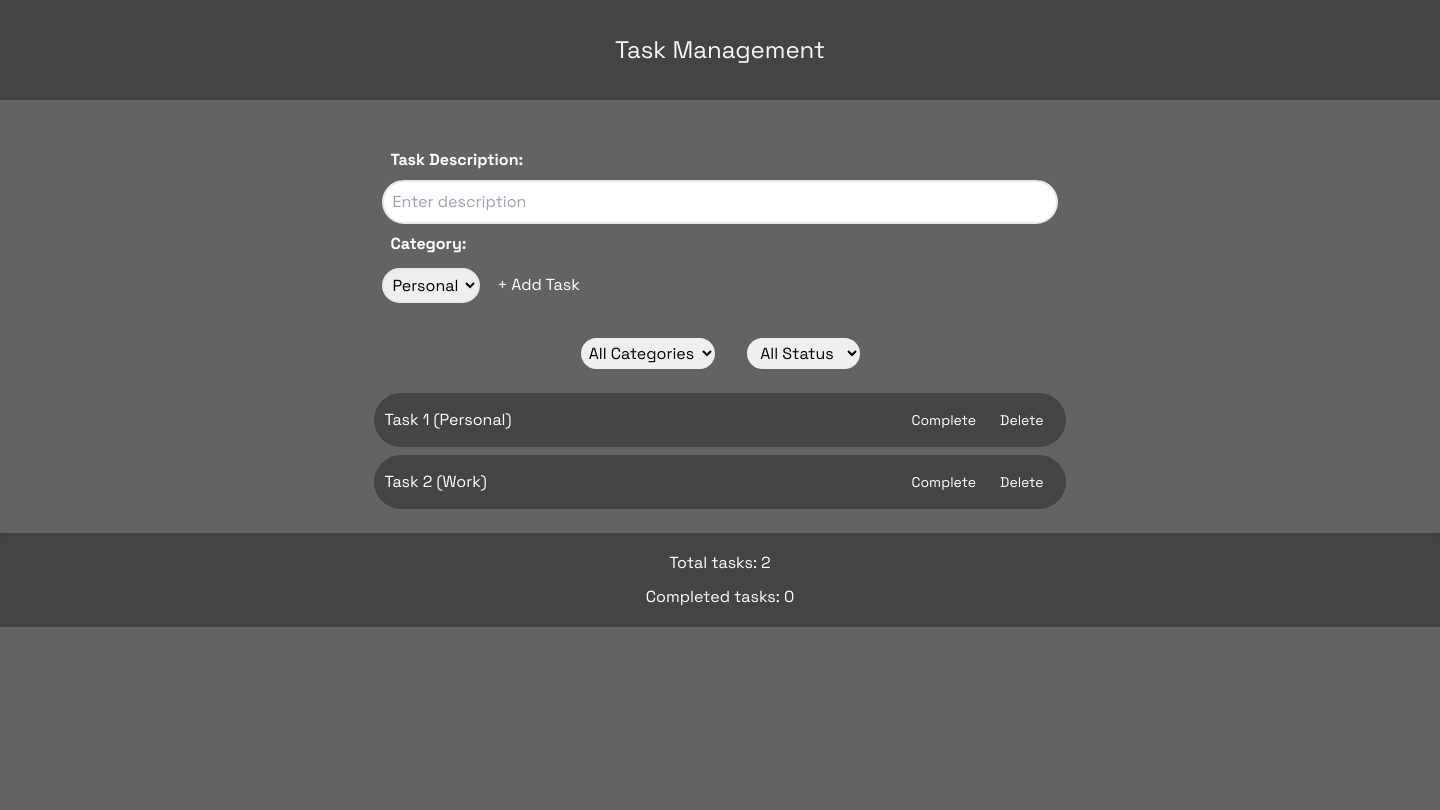
Scenario: Deletes a task and updates the task list and counter
Type "Task to Complete" into the field labelled "Task Description:".
click(720, 202); type("Task to Complete")  # box left=382, top=180, right=1058, bottom=224
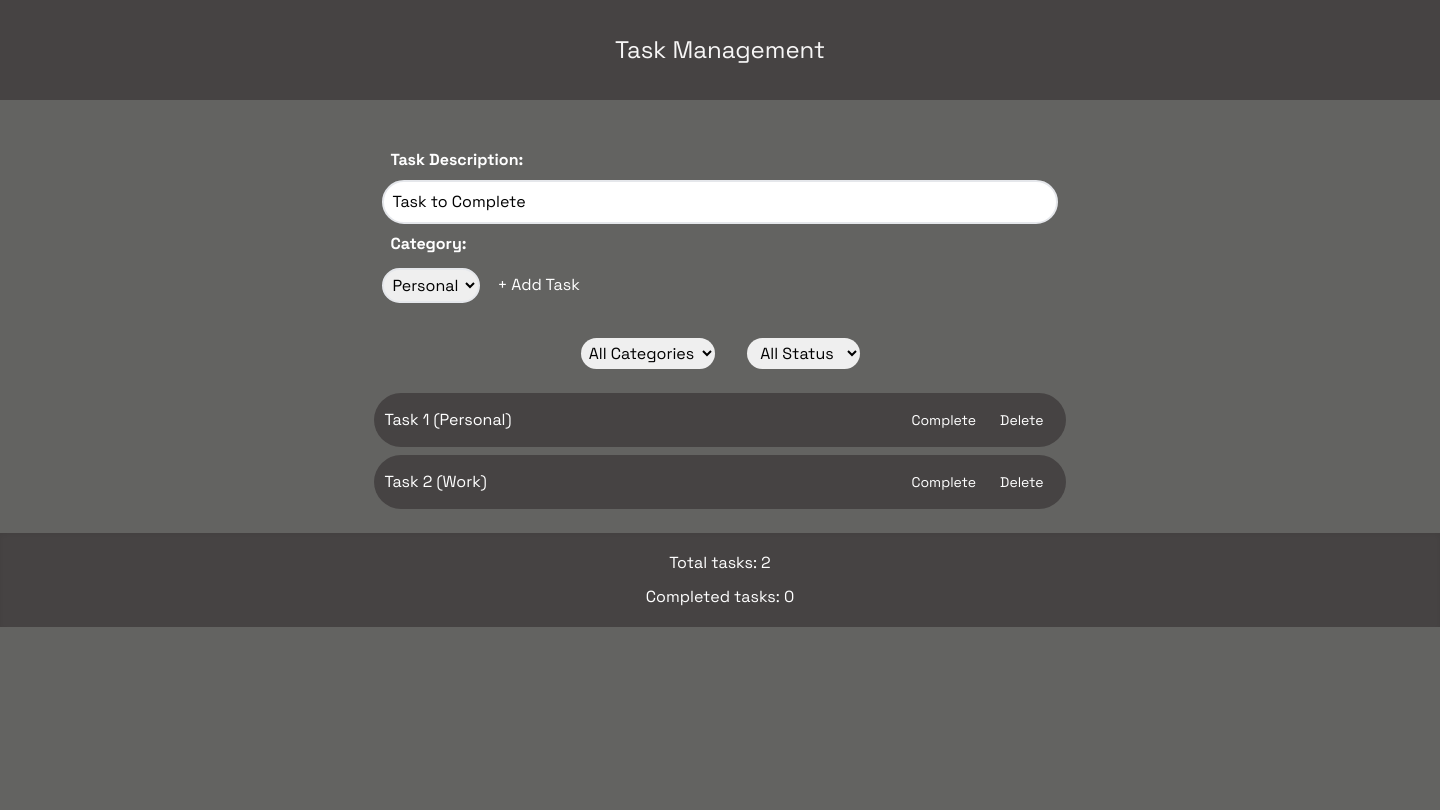
Select "Work" in the dropdown labelled "Category:" at (431, 285), box left=382, top=268, right=480, bottom=302
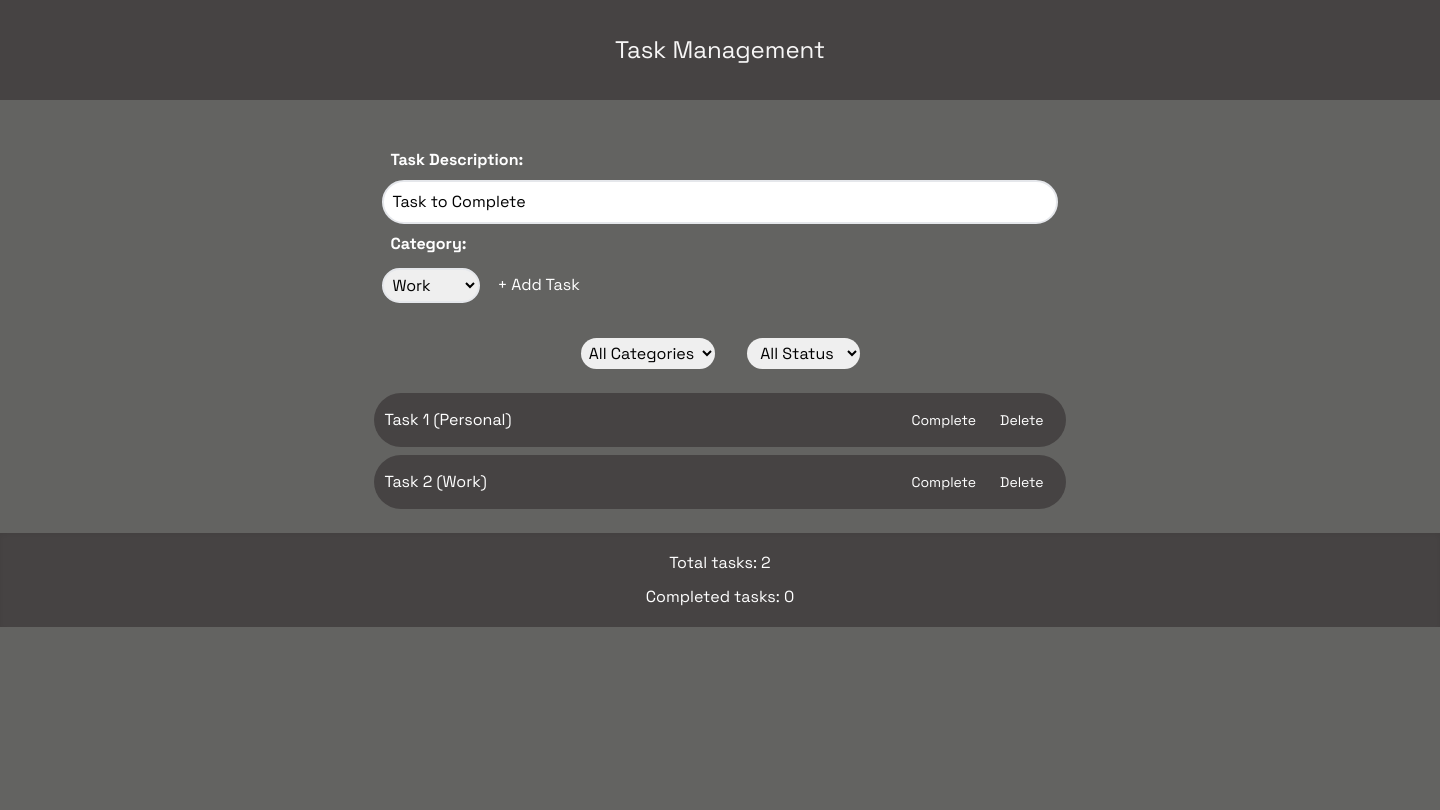
Click the button "+ Add Task".
click(539, 285)  # box left=490, top=266, right=587, bottom=304
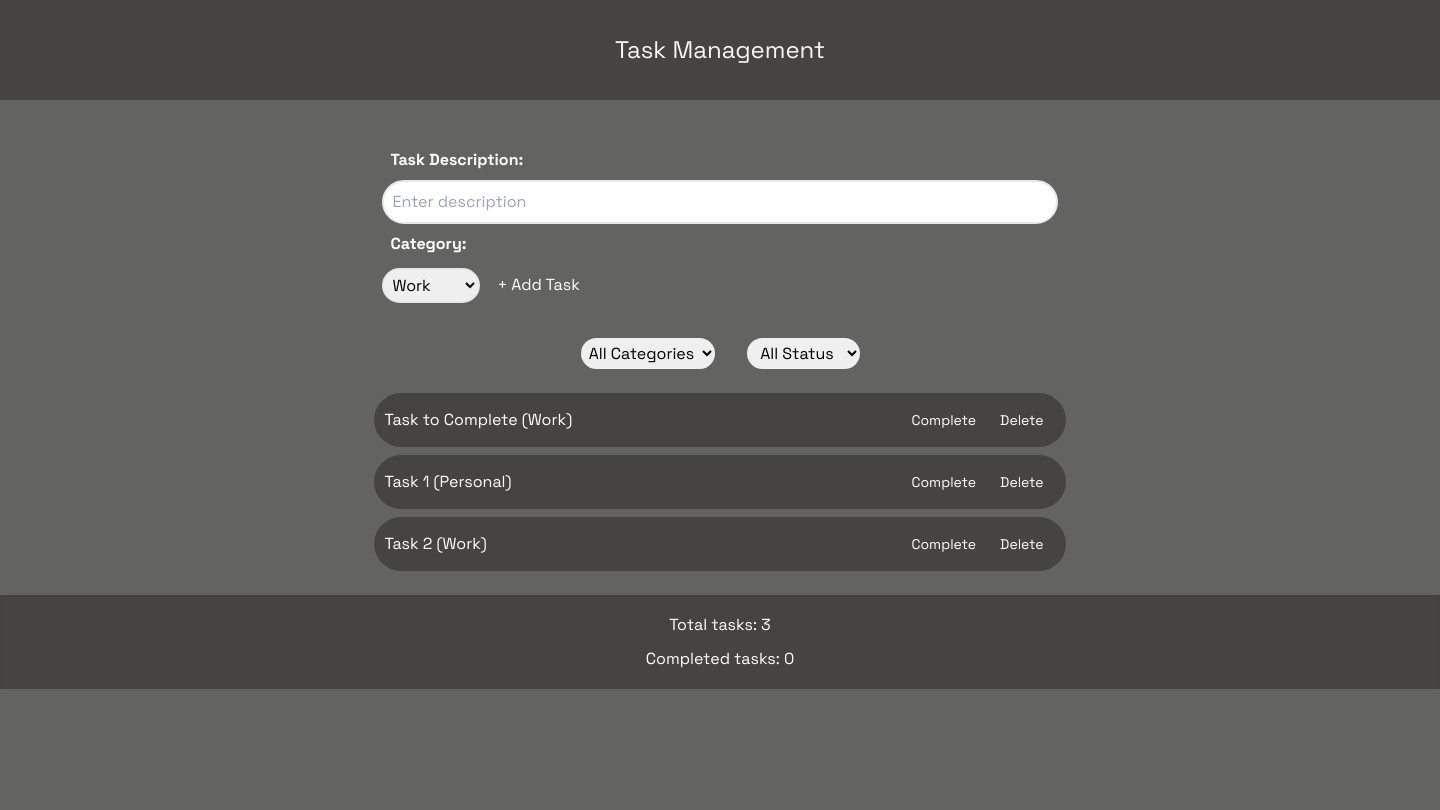
Click the button "Delete" in the row of "Task to Complete".
click(1022, 420)  # box left=992, top=402, right=1052, bottom=438
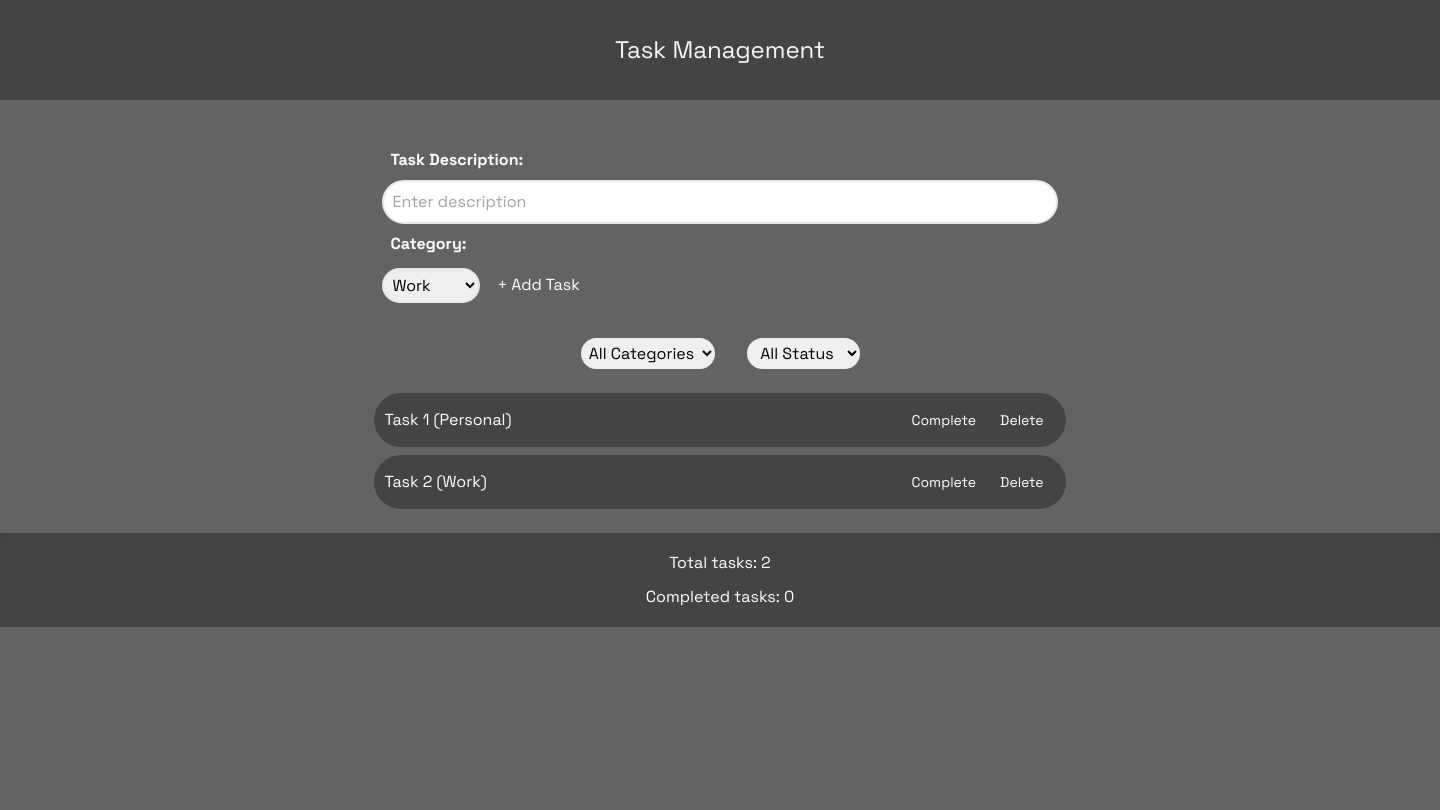
Expected: the text "Completed tasks: 0" is shown, left=646, top=586, right=794, bottom=607
Expected: the text "Total tasks: 2" is shown, left=669, top=552, right=771, bottom=573
